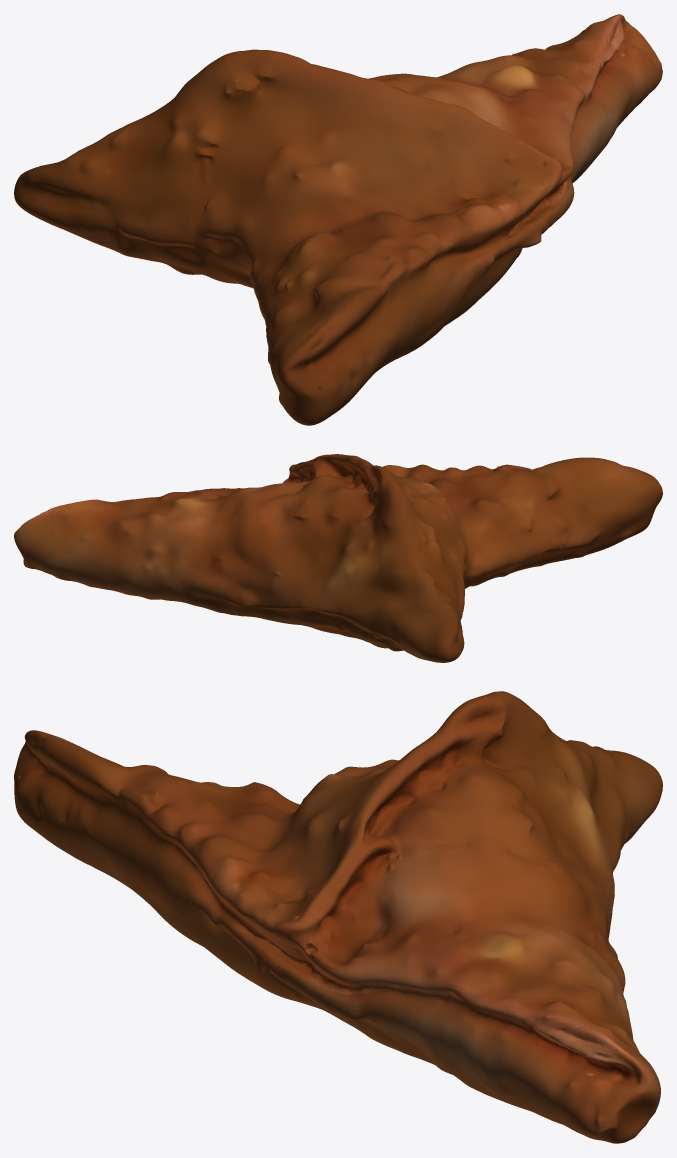
File: Samosa.glb
3 views of the same model, one above another, from view 1: azimuth 30°, elevation 25°; view 2: azimuth 150°, elevation 25°; view 3: azimuth 270°, elevation 25° (orthographic). The views are drawn at different scales.
Parts seen in each view (by area): view 1: model; view 2: model; view 3: model.
Boxes of the visible parts, bbox=[...] form: model: bbox=[14, 14, 662, 425]; model: bbox=[14, 454, 662, 662]; model: bbox=[14, 691, 662, 1143].
Size of the model in its own units: 1.9 by 0.625 by 1.51.
1 material, 1 textured.
